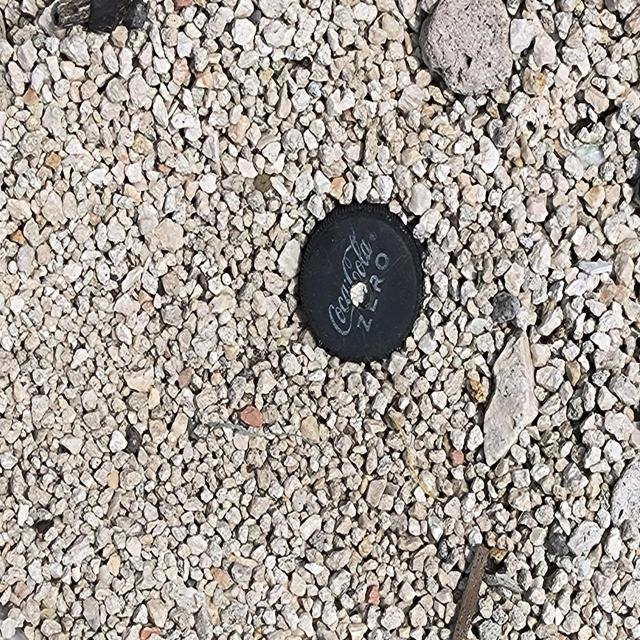plastic_waste: (298, 201, 426, 367)
